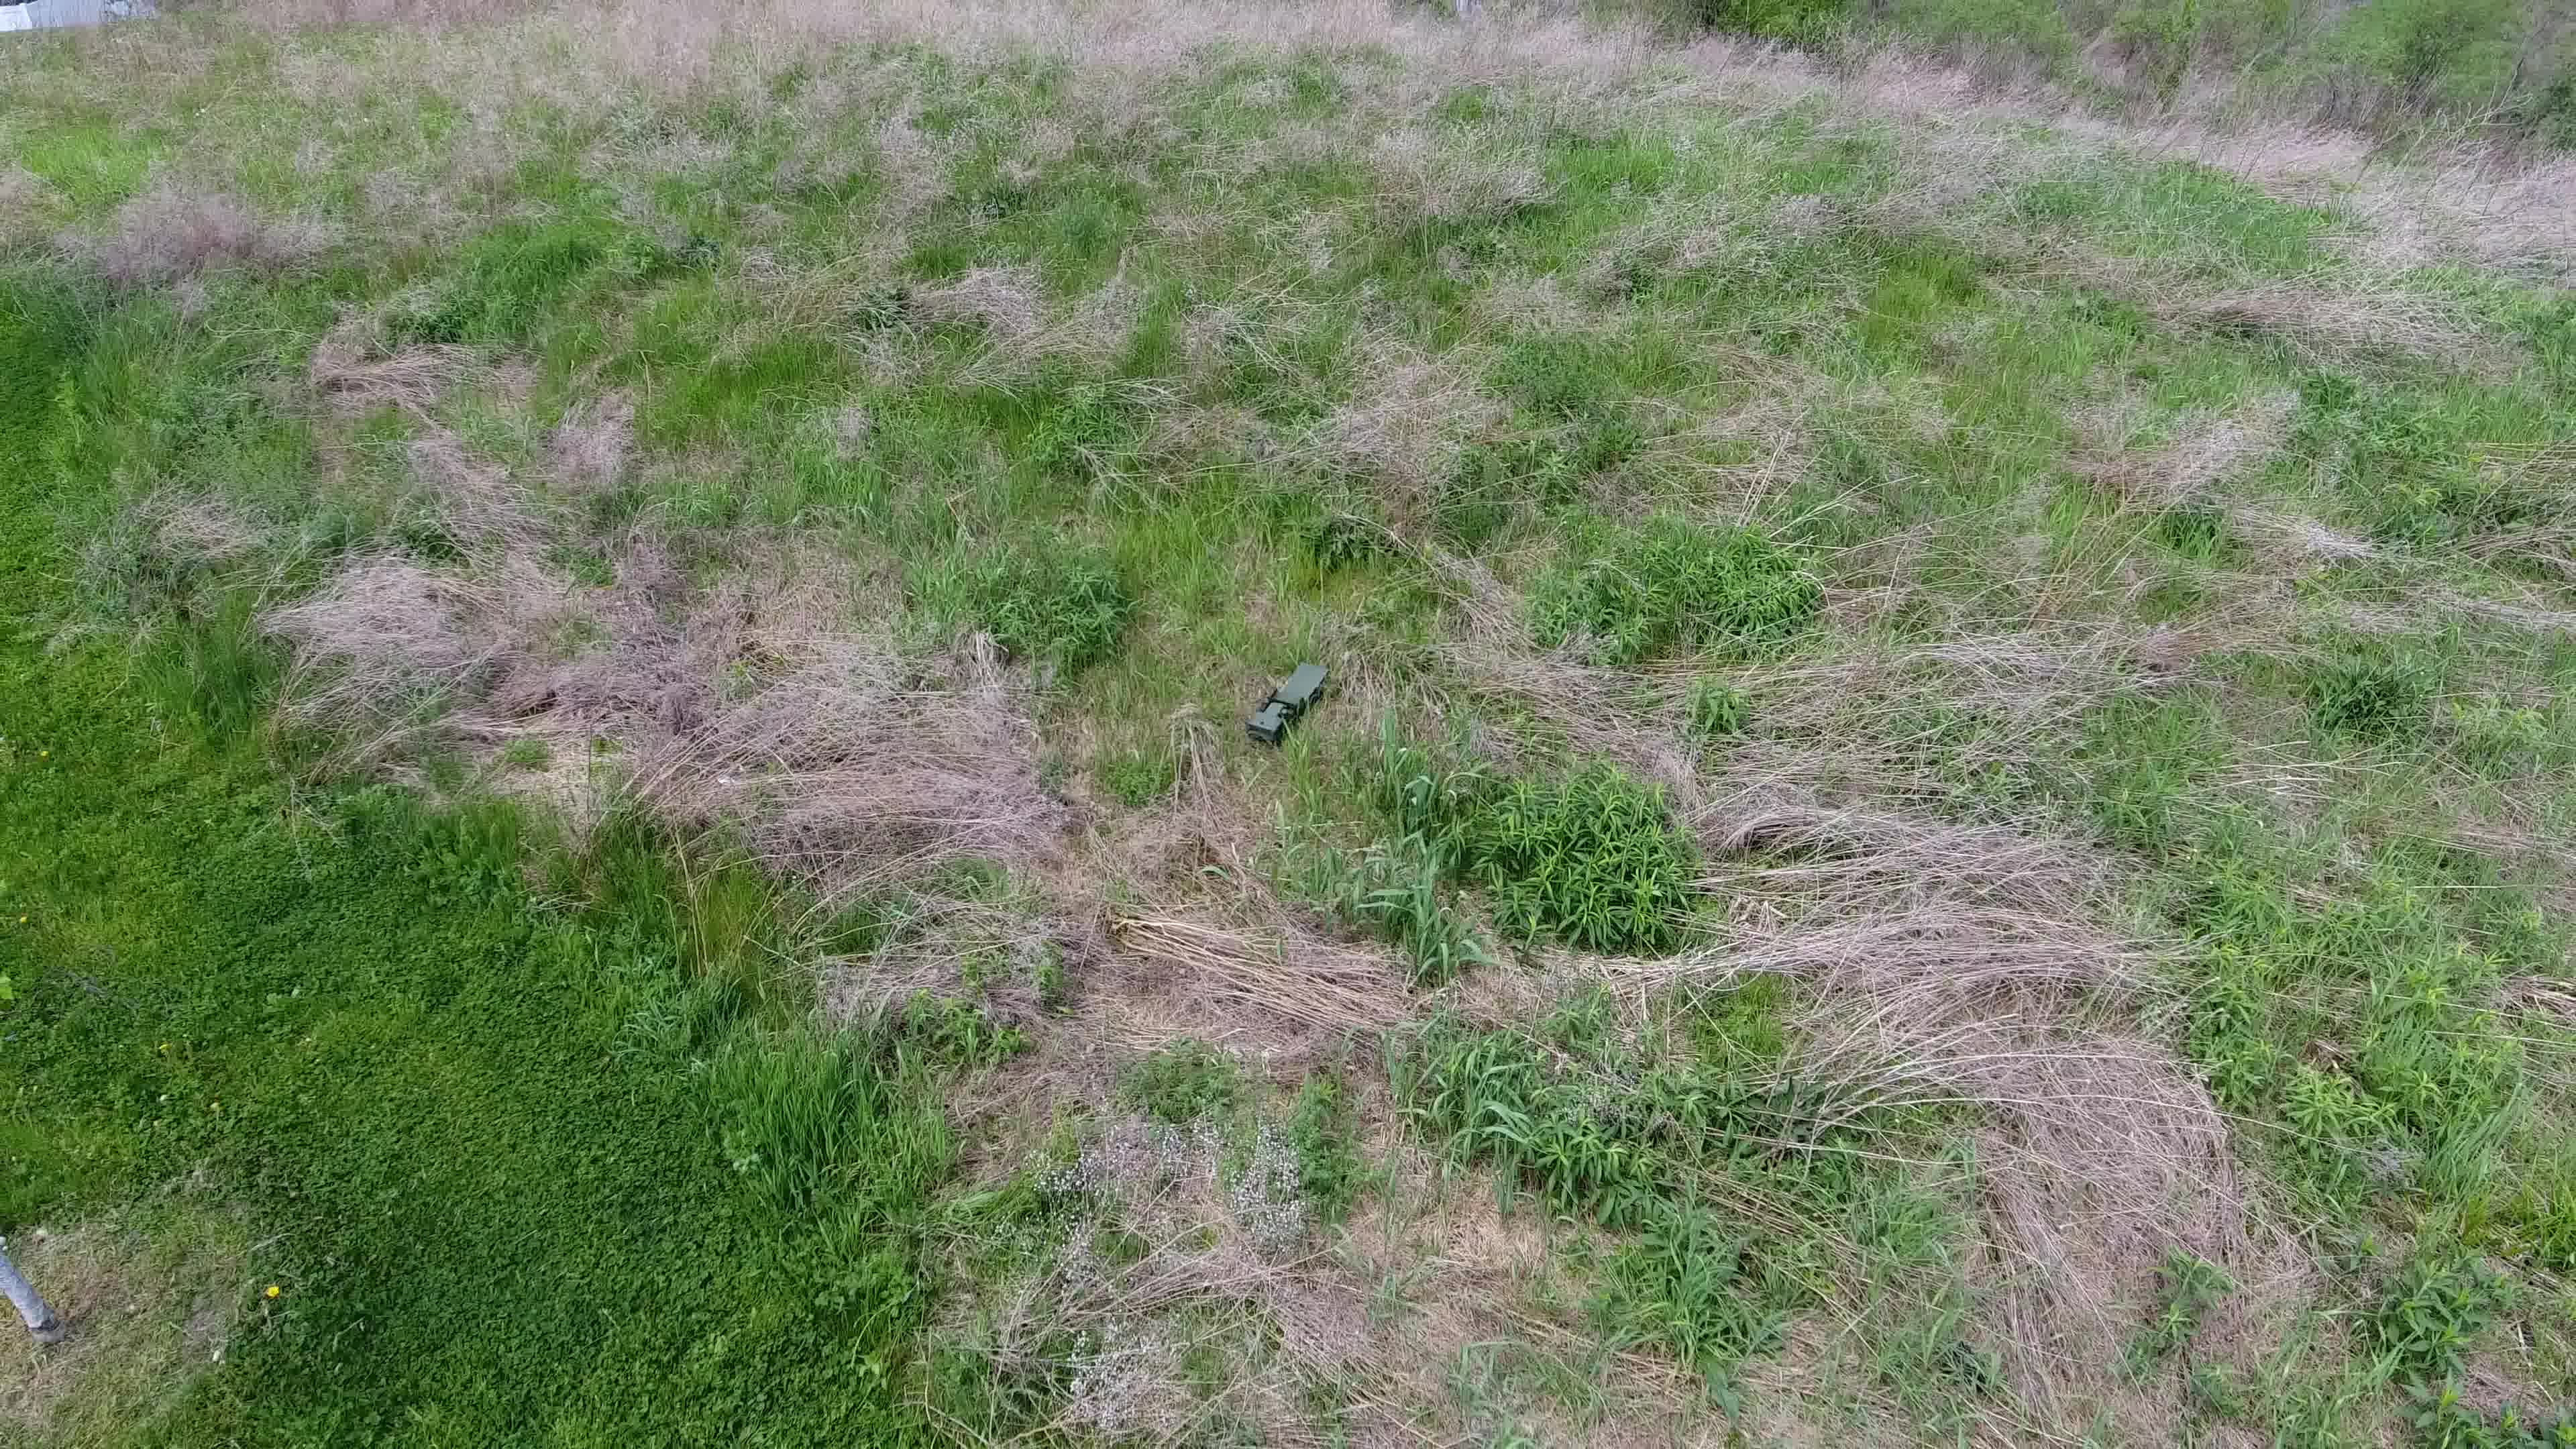transporter9: (1244, 658, 1332, 747)
